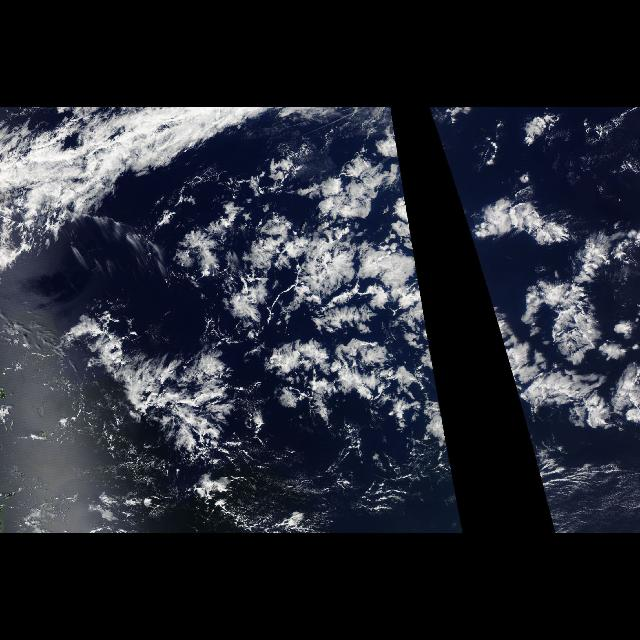Flower: (165, 181, 451, 459), (452, 181, 640, 459)
